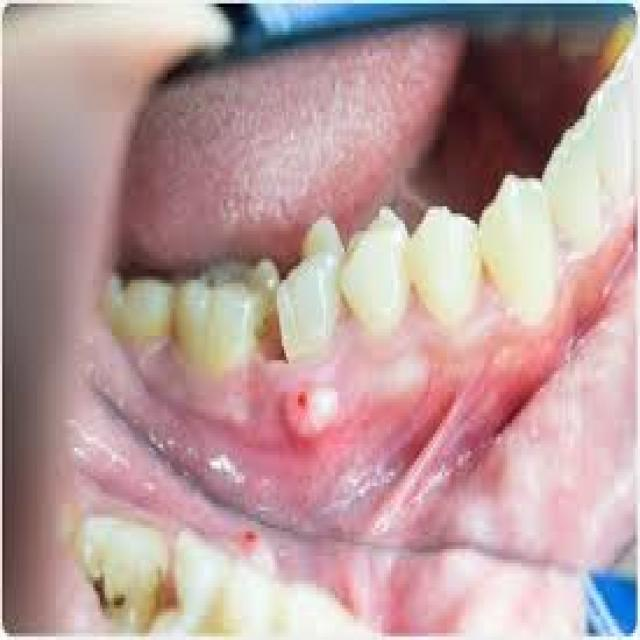abscess: (272, 363, 346, 456)
